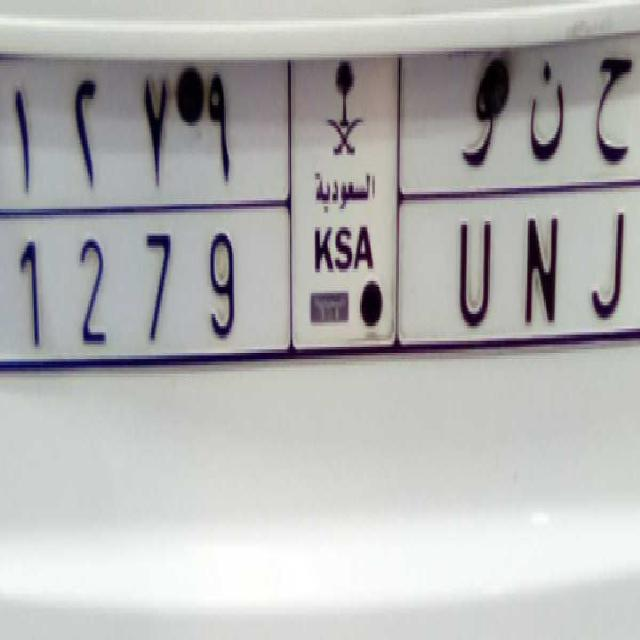license_plate: (5, 196, 639, 360)
